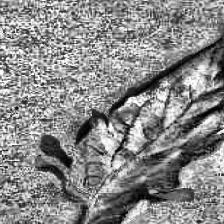leaf mold: (32, 6, 224, 223)
